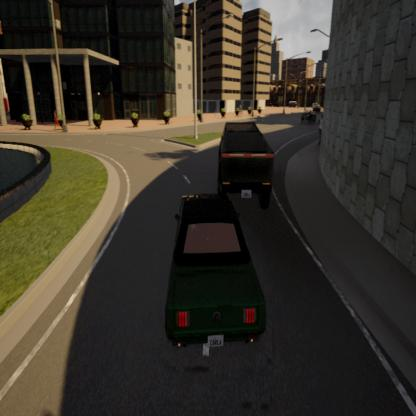Cars: (168, 194, 267, 354), (218, 122, 273, 200), (301, 109, 317, 126)
Pedestrian: (51, 107, 62, 136), (318, 111, 324, 146)
